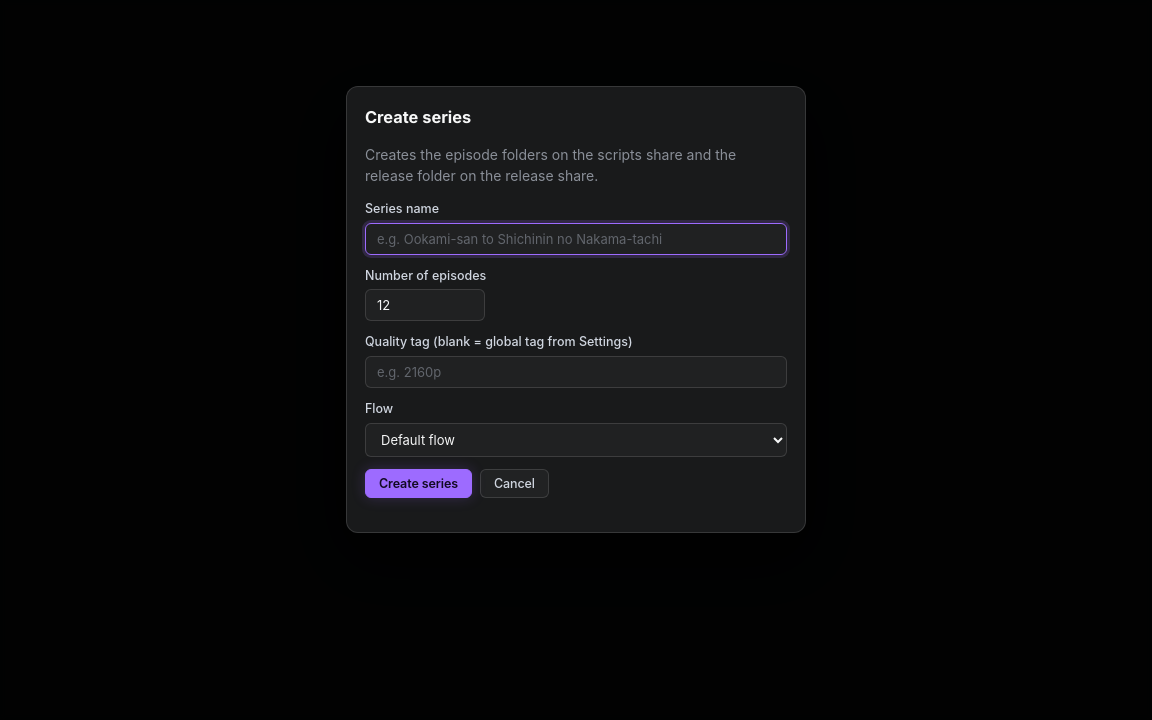
CreateSeriesDialog › surfaces server errors and stays mounted
This screenshot has width=1152, height=720.
Type "bad/name" into the field labelled "Series name" at (576, 239), box [365,223,787,255]
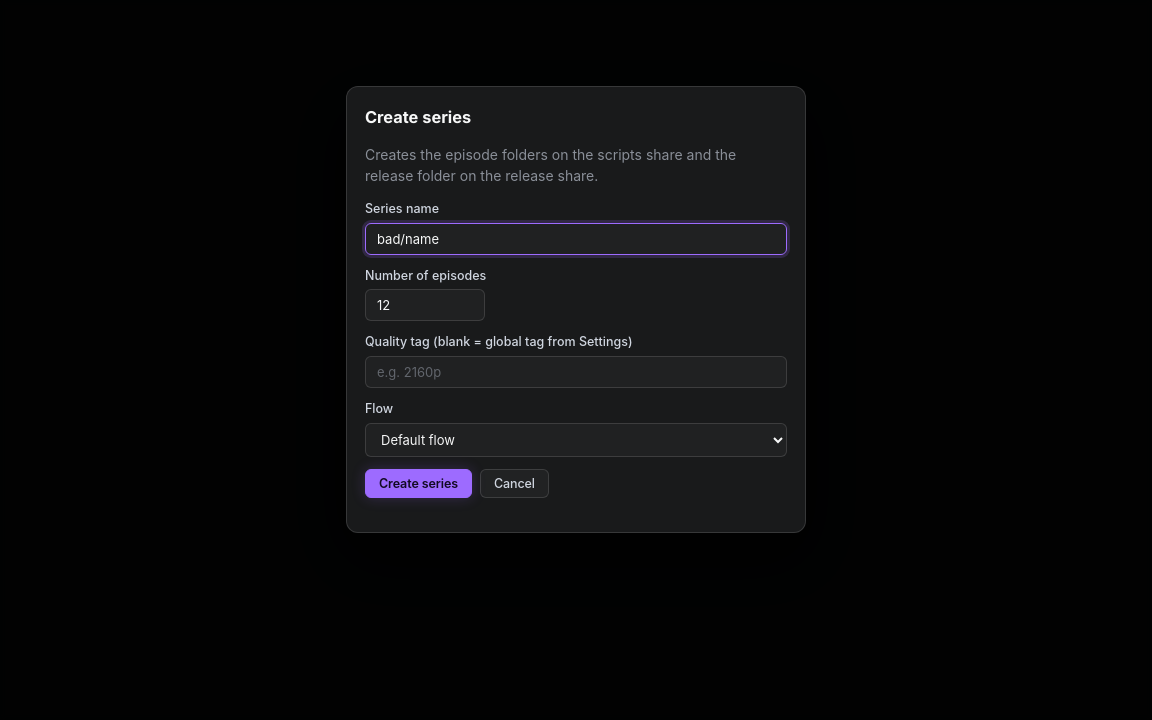
Click the button "Create series" at (418, 484), box [365,469,472,498]
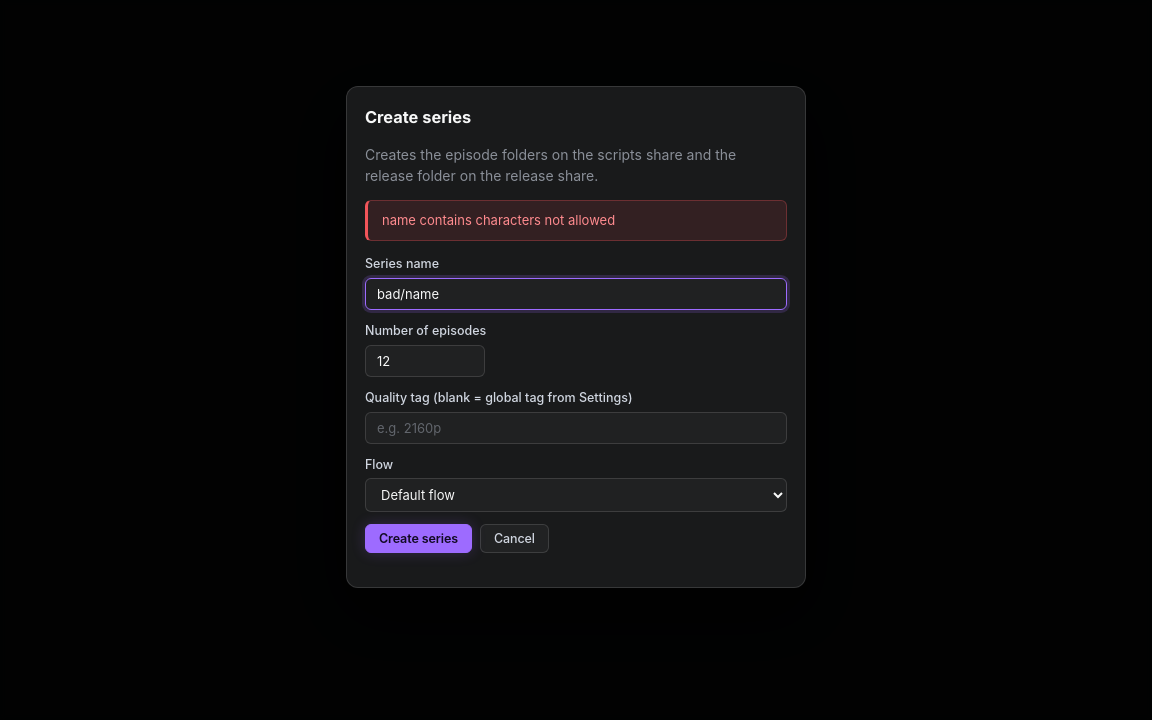
Expected: the heading "Create series" is shown, [365,107,471,127]
Expected: the text "name contains characters not allowed" is shown, [365,200,787,242]
